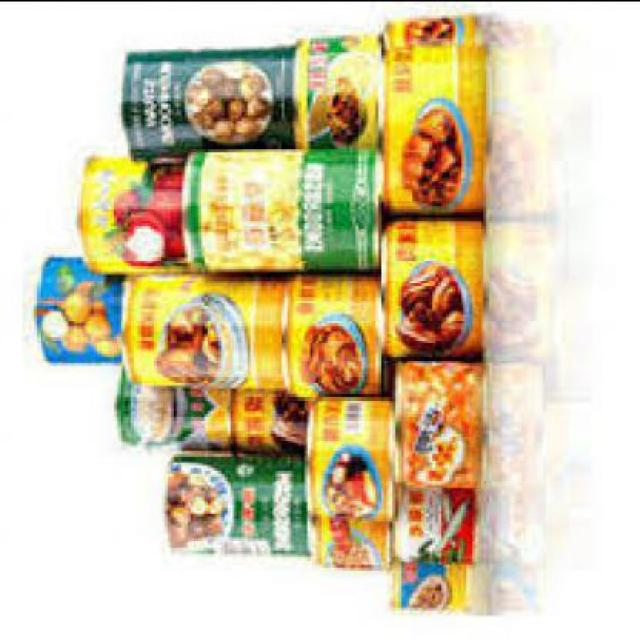METAL: (178, 142, 378, 268), (376, 11, 486, 214), (119, 42, 293, 156), (124, 270, 284, 393), (379, 211, 483, 352), (162, 447, 304, 548), (74, 151, 181, 271), (290, 267, 381, 398), (390, 355, 481, 483), (302, 392, 392, 516), (23, 251, 122, 358), (114, 364, 231, 447), (290, 34, 378, 144), (390, 484, 472, 558), (228, 382, 302, 449), (304, 511, 390, 564), (386, 554, 472, 606)
